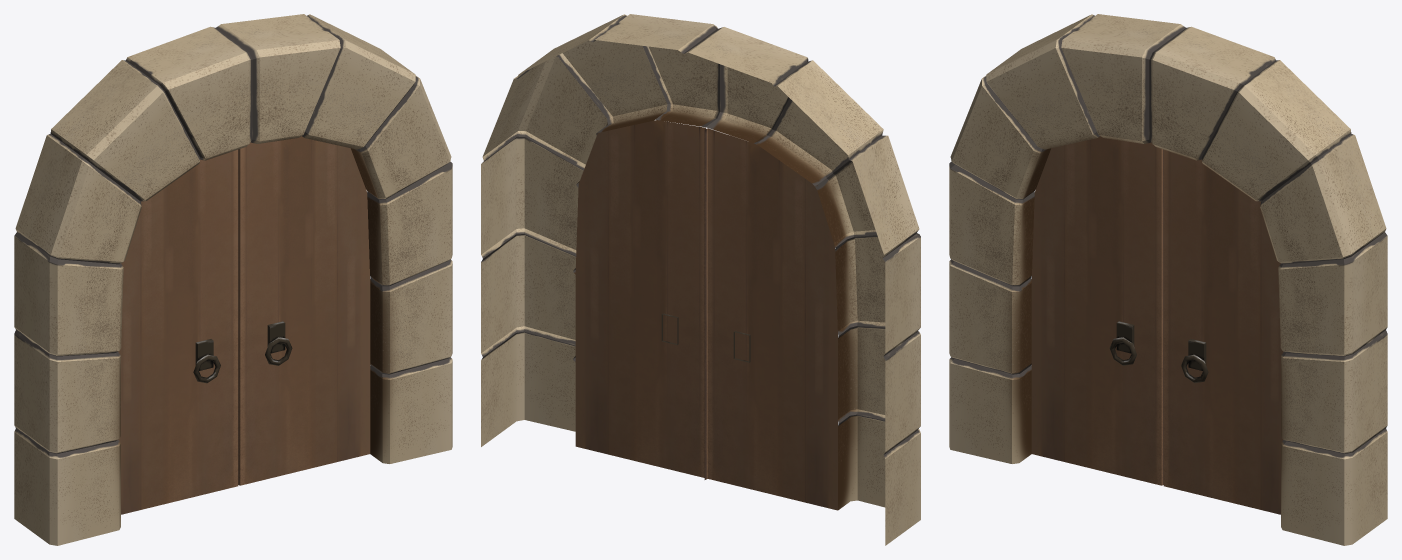
Rendered from door.fbx.
The picture shows the model from 3 angles, left to right: view 1: azimuth 30°, elevation 25°; view 2: azimuth 150°, elevation 25°; view 3: azimuth 330°, elevation 25°; orthographic projection.
Visible parts, largest first — view 1: Cube.001, Cube, Cube.002; view 2: Cube.001, Cube; view 3: Cube.001, Cube, Cube.002.
Boxes of the visible parts, box(x1,y1,x2,y2) form: Cube.001: box(14, 14, 452, 545); Cube: box(118, 136, 370, 514); Cube.002: box(193, 321, 292, 383); Cube.001: box(481, 14, 920, 545); Cube: box(575, 120, 837, 510); Cube.001: box(949, 14, 1387, 545); Cube: box(1031, 136, 1283, 514); Cube.002: box(1109, 321, 1208, 383).
Bounding box in the file's own units: 87.48 × 525 × 552.
1 material, 1 textured.
